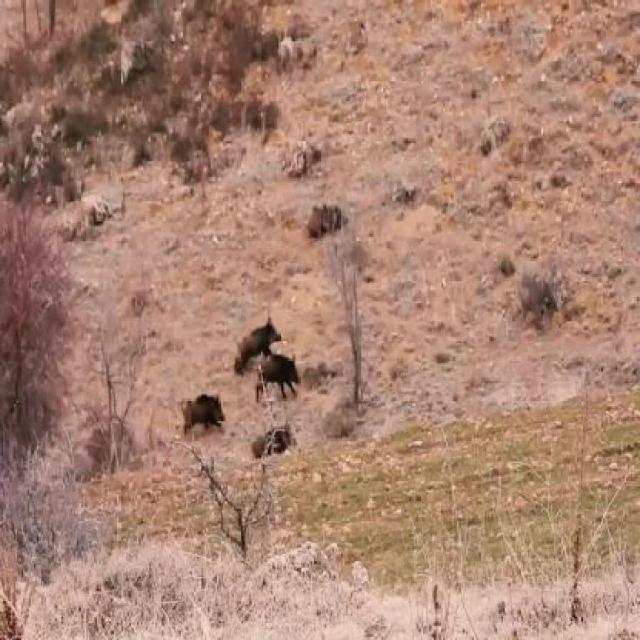Boar: (177, 378, 234, 462), (228, 335, 302, 388), (252, 332, 306, 401)
